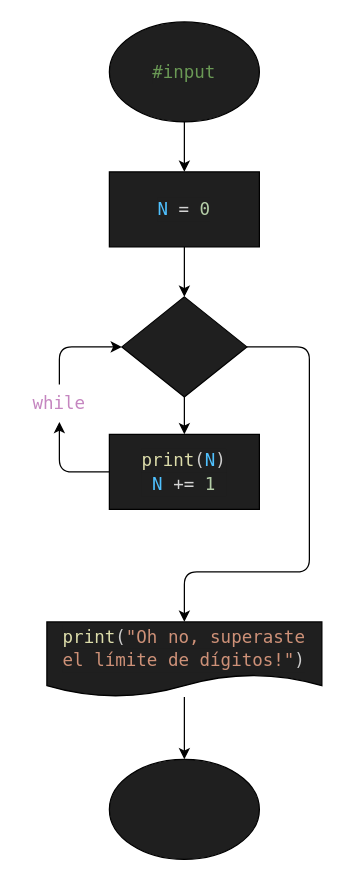
Image size: 344x881. Some labels were removed from this diagram. Each missing label, with the centre of its shape:
"#output" belongs at point 183,808.
"N <= 100" belongs at point 184,346.
